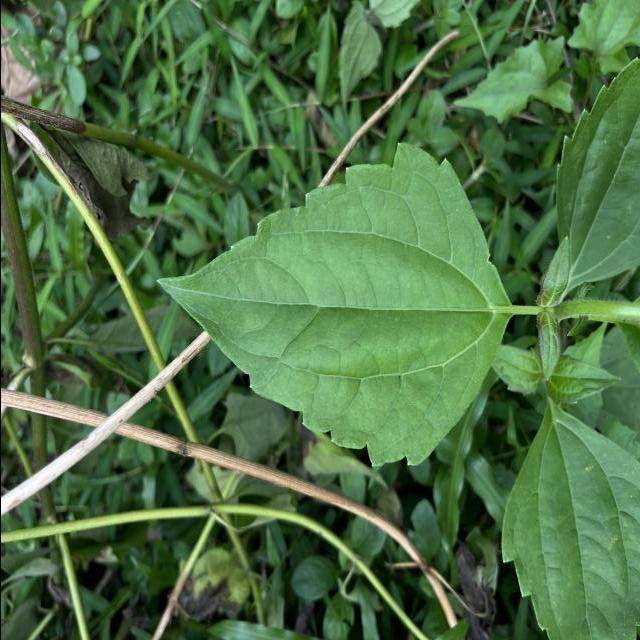Chromolaena odorata: (146, 137, 514, 476)
